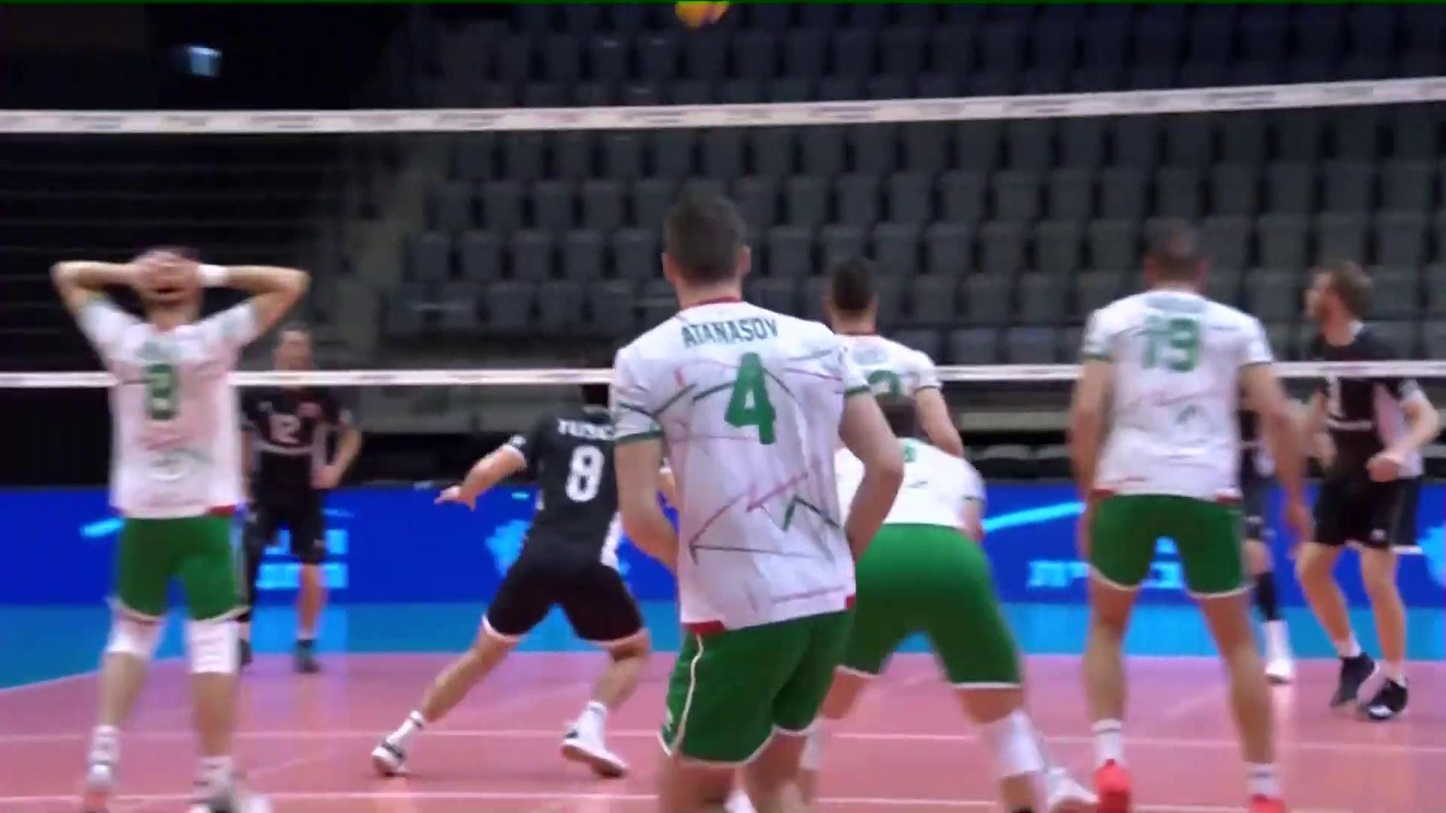ball: (676, 0, 733, 21)
